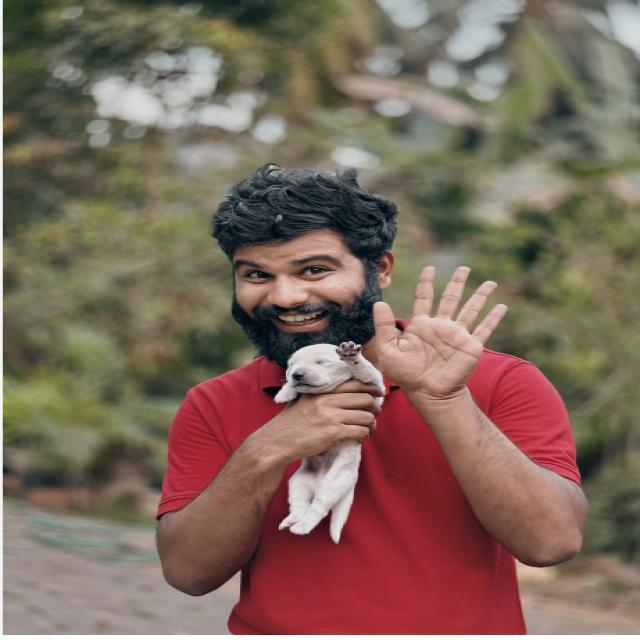face_no_mask: (220, 233, 388, 356)
